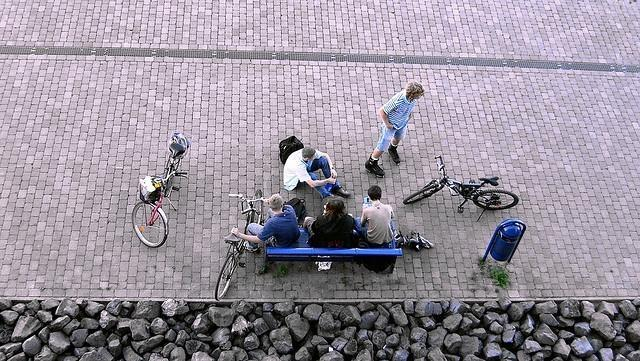bicycle: (132, 132, 190, 248), (404, 154, 518, 212), (213, 190, 266, 301)
